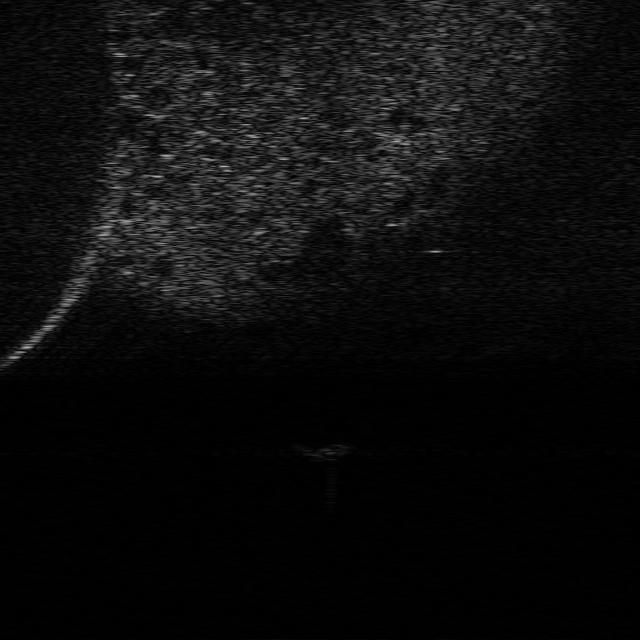cube: (290, 437, 350, 464)
